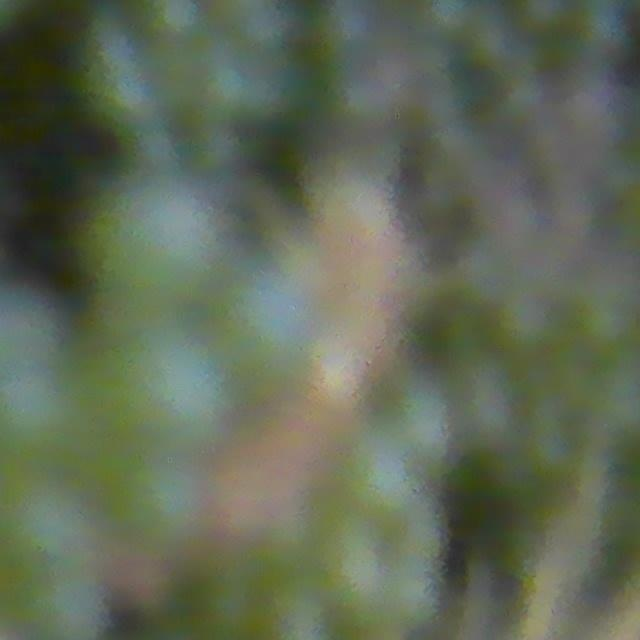SeaGrape: (81, 191, 229, 312), (100, 332, 226, 458), (208, 271, 316, 384), (103, 458, 202, 552), (0, 374, 82, 478), (3, 479, 98, 568), (342, 437, 427, 522), (29, 569, 107, 640)
